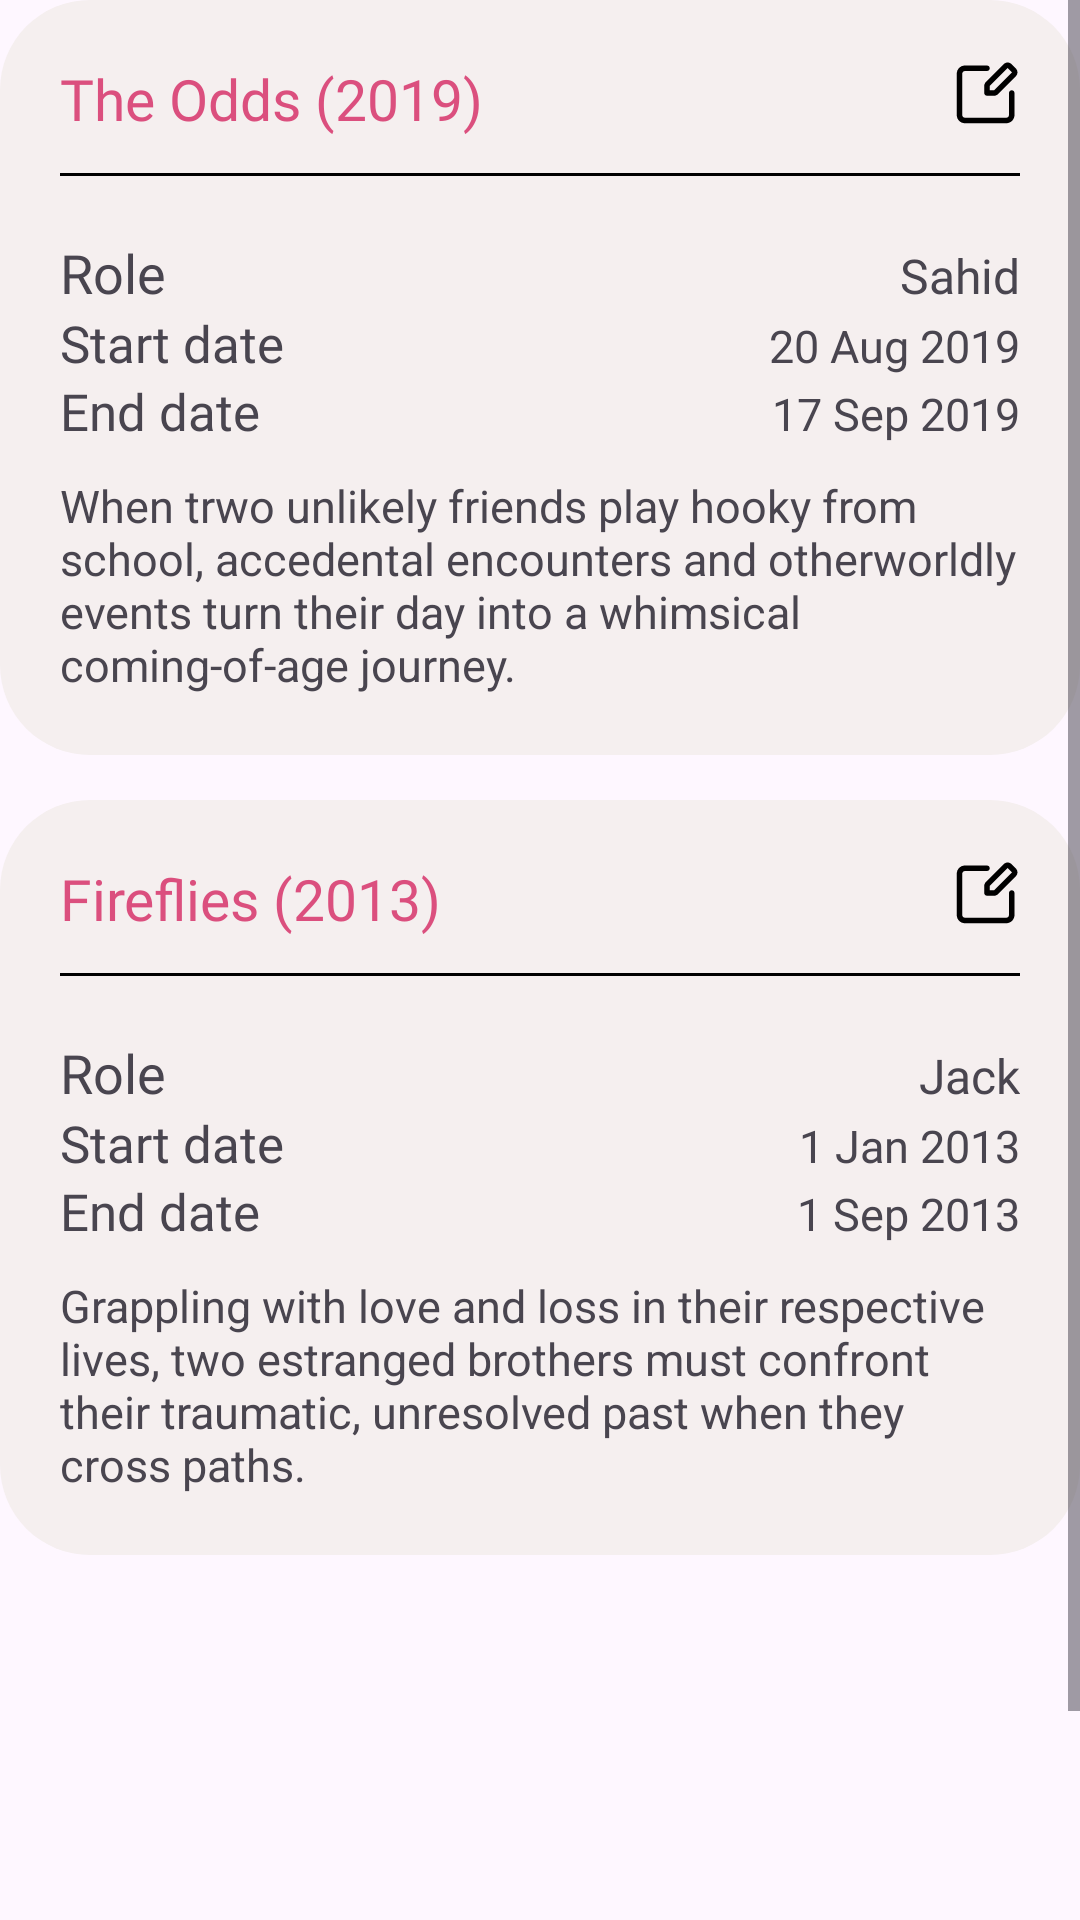

Icons on this 1080px x 1920px Android screen, each with the point to tap as (x,y):
edit: (987,93), (987,893)
